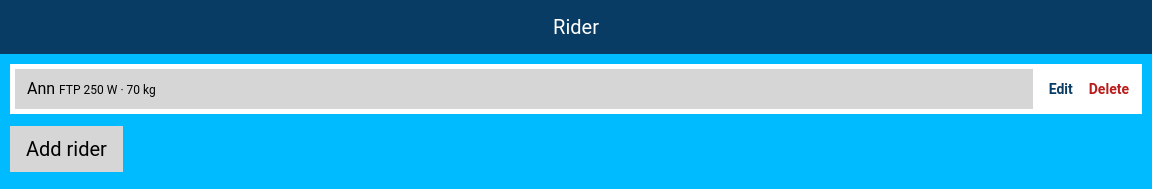
RiderScreen › deletes the current rider and clears the selection
Click the button "Ann FTP 250 W · 70 kg". click: (41, 88)
box: [15, 69, 1033, 109]
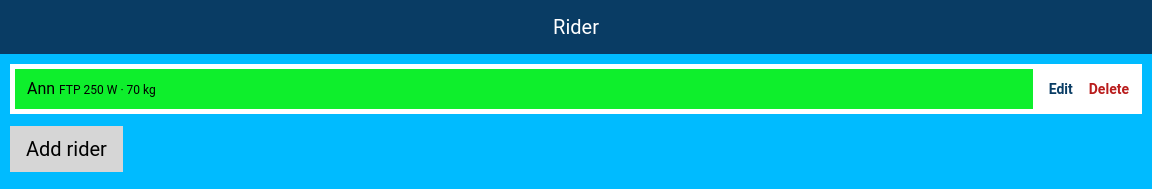
Click the button with aria-label "Delete Ann". click: (1109, 89)
box: [1081, 79, 1137, 99]
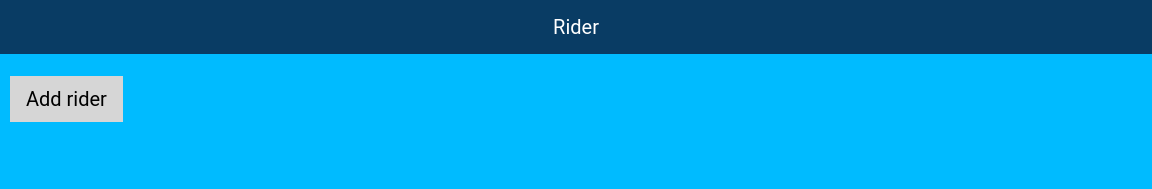
Now the button "Ann" is gone
